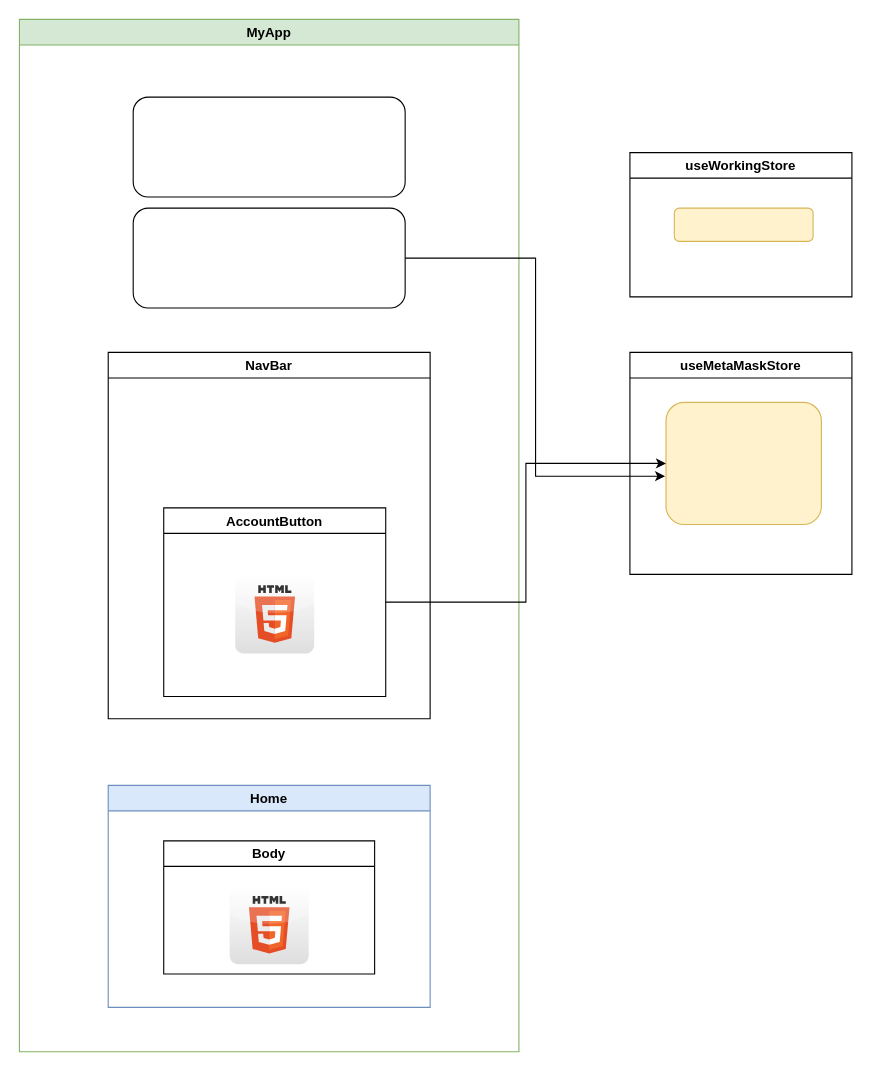
The diagram is 871 pixels wide and 1071 high, and some of its shapes have lost their labels. Each missing label, with the centre of its shape:
account balance chainId isEthereumAvailable provider: (743,462)
secret: (743,224)
useEthereum() - Run Once - Open MetaMask - Setup listener: (268,146)
useMetaMask() - Get information of account / balance / network: (268,257)
